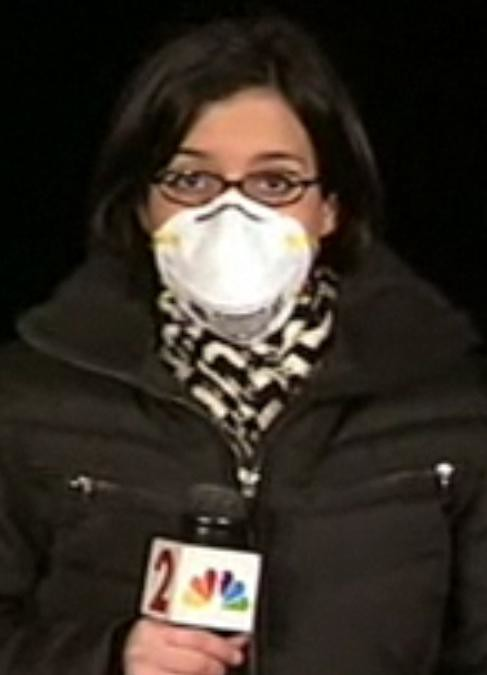n95: (140, 189, 319, 344)
